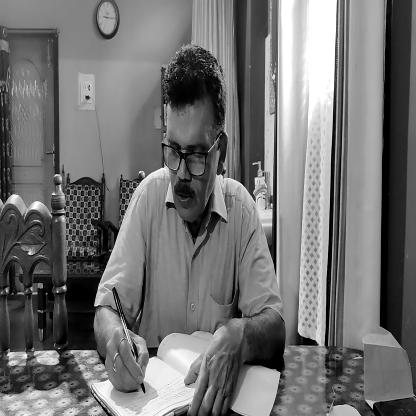Normal: (158, 43, 224, 223)
